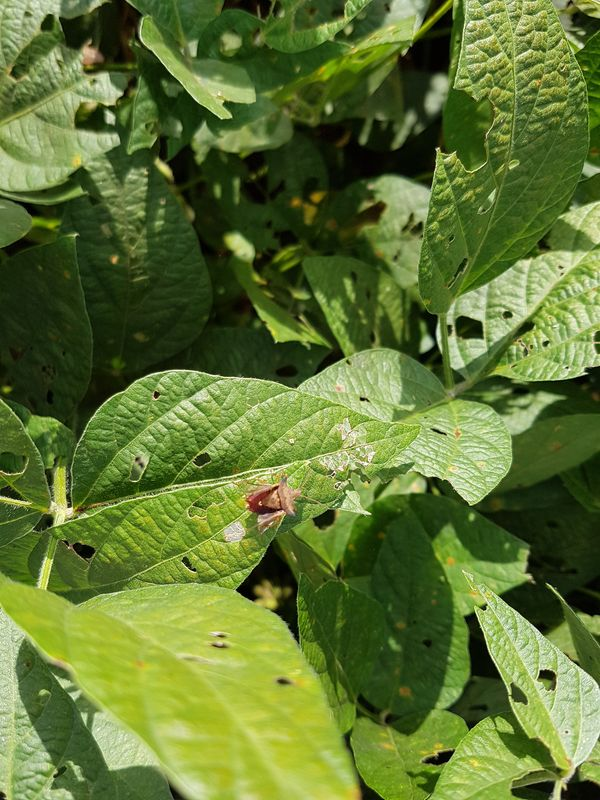Euschistus_heros_adulto: (227, 463, 327, 540)
